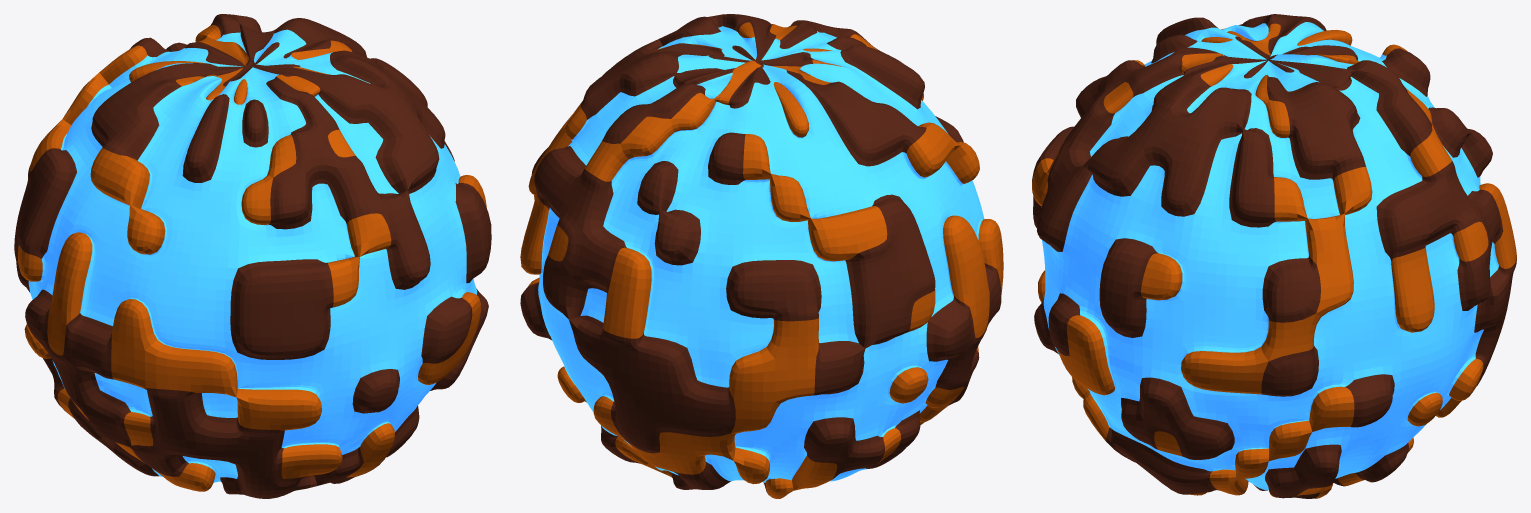
The model's file is planetWatery.fbx.
The picture shows the model from 3 angles, left to right: view 1: azimuth 30°, elevation 25°; view 2: azimuth 150°, elevation 25°; view 3: azimuth 270°, elevation 25°; orthographic projection. The views are drawn at different scales.
Visible parts, largest first — view 1: Sphere; view 2: Sphere; view 3: Sphere.
Part boxes in pixels (left/top/right/bottom): Sphere: left=14, top=14, right=491, bottom=498; Sphere: left=520, top=14, right=1003, bottom=498; Sphere: left=1032, top=14, right=1516, bottom=498.
Bounding box in the file's own units: 194 × 177 × 189.
